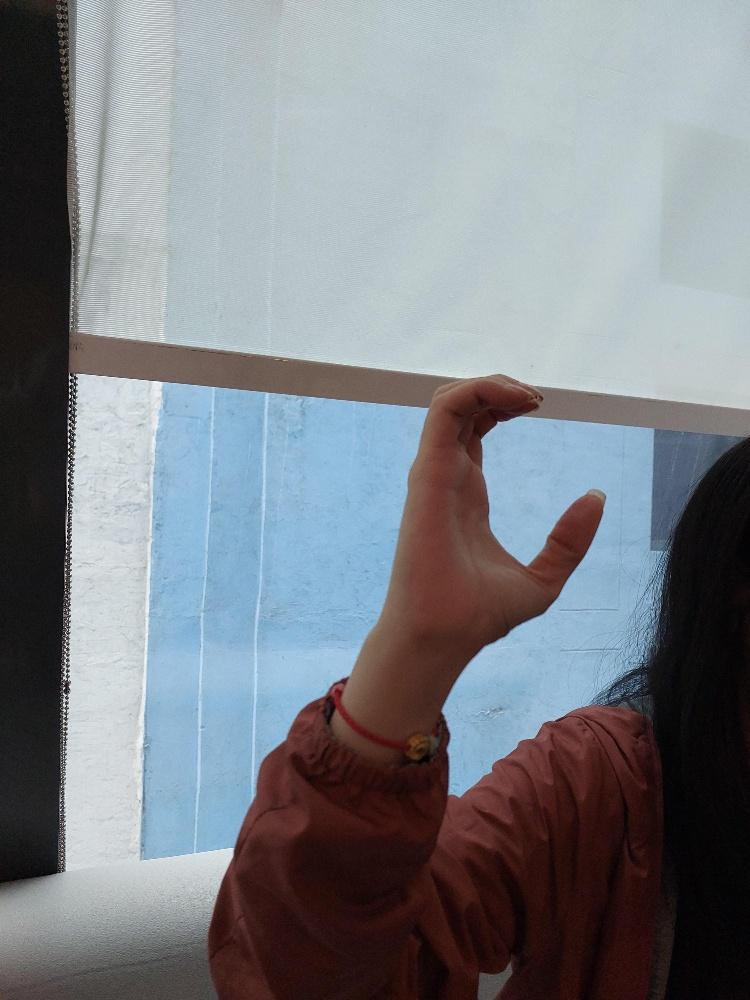c: (386, 369, 609, 659)
